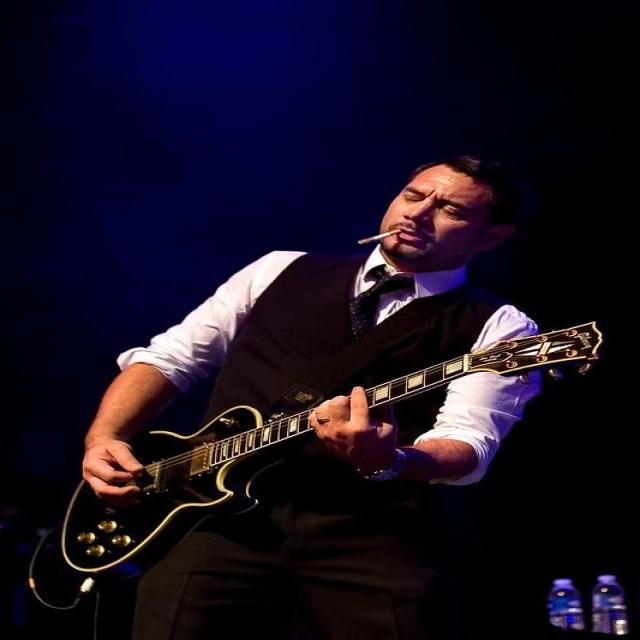guitar: (63, 406, 312, 573)
